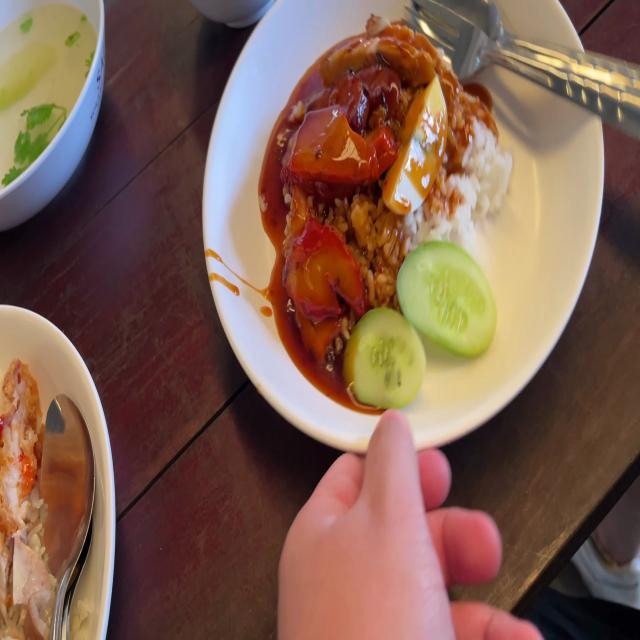boiled_chicken: (0, 523, 54, 640)
boiled_egg: (384, 74, 446, 214)
chainese_sausage: (305, 61, 403, 131)
chicken_rice: (0, 369, 48, 640)
crispy_pork: (328, 21, 443, 84)
cucumber: (393, 238, 499, 362), (348, 307, 430, 408)
fried_chicken: (1, 365, 39, 521)
red_pork: (284, 219, 358, 355), (287, 110, 397, 192)
red_pork_and_crispy_pork: (271, 27, 518, 413)
